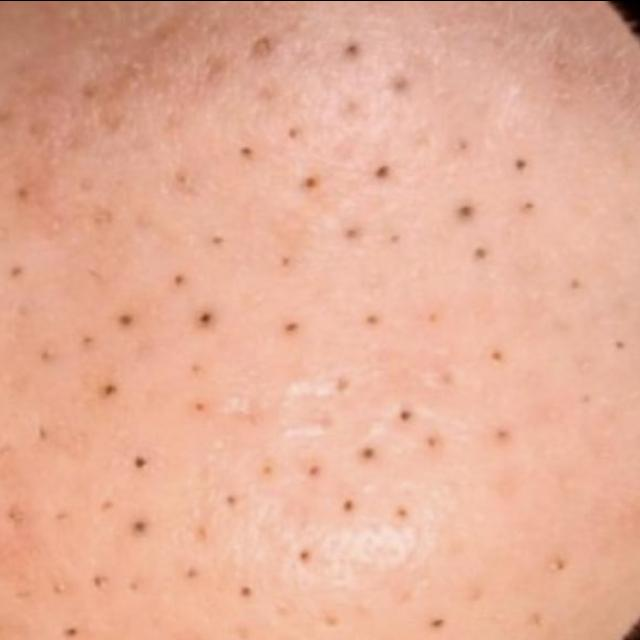blackhead: (0, 24, 556, 640)
